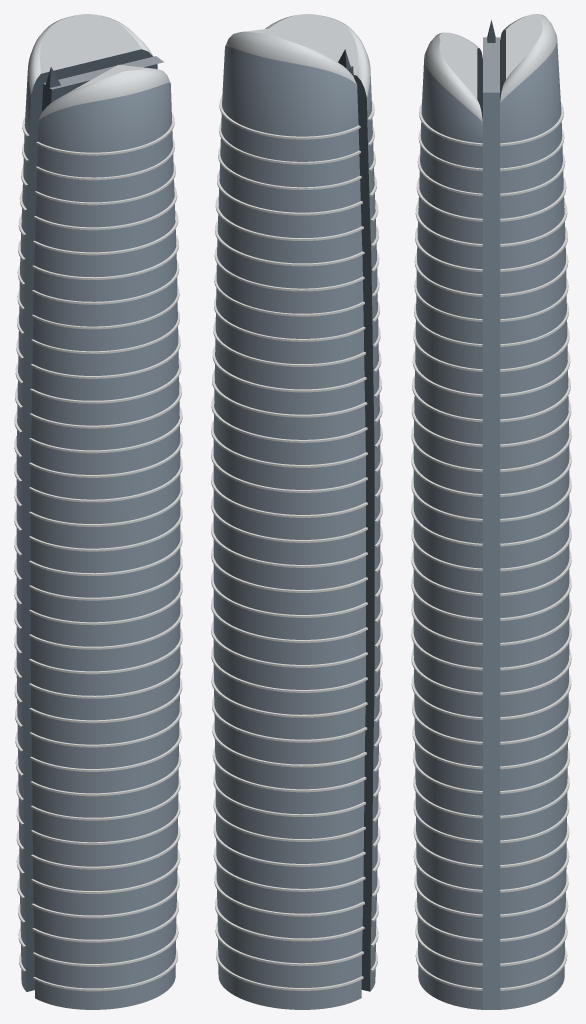
Rendered from egypt-iconic-tower.detail.glb.
The picture shows the model from 3 angles, left to right: view 1: azimuth 30°, elevation 25°; view 2: azimuth 150°, elevation 25°; view 3: azimuth 270°, elevation 25°; orthographic projection.
Visible parts, largest first — view 1: Iconic Tower; view 2: Iconic Tower; view 3: Iconic Tower.
Part boxes in pixels (bbox=[...]): Iconic Tower: bbox=[14, 14, 182, 1009]; Iconic Tower: bbox=[211, 14, 382, 1009]; Iconic Tower: bbox=[411, 14, 571, 1009].
Size of the model in its own units: 64.4 by 394 by 59.8.
